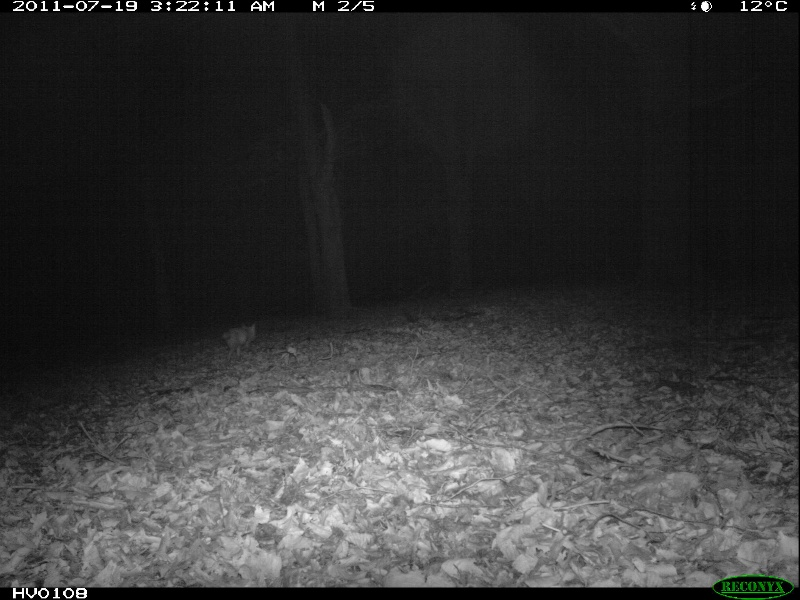fox: (222, 319, 260, 356)
